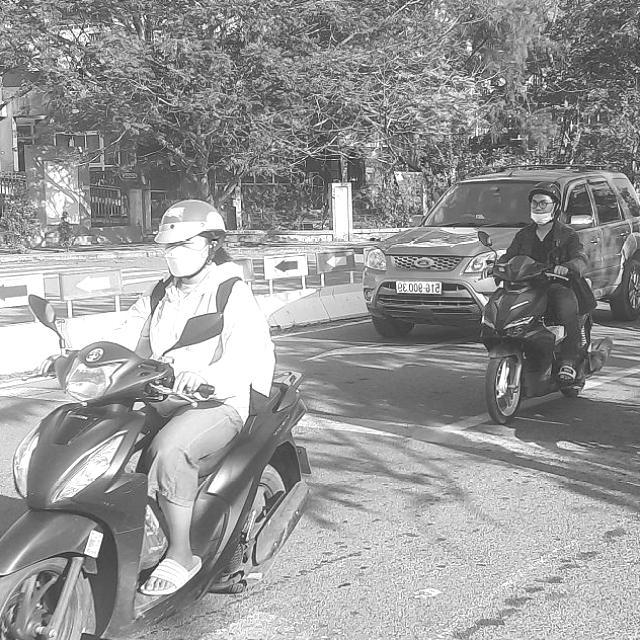Helmet: (158, 194, 231, 284), (524, 177, 568, 232)
